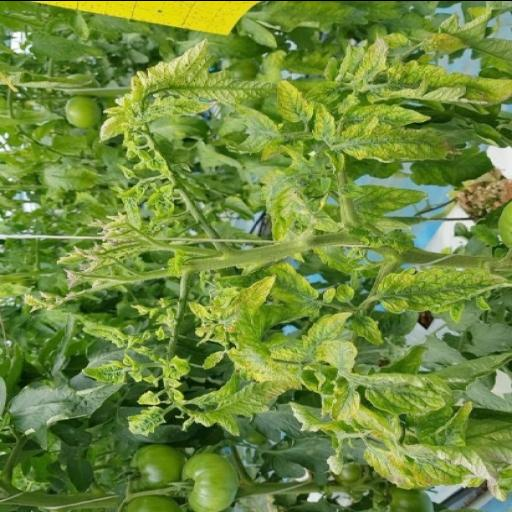Yellow Leaf Curl Virus: (363, 436, 507, 506), (134, 38, 274, 104), (368, 262, 512, 316), (371, 56, 512, 107), (332, 116, 464, 166), (194, 378, 298, 438), (360, 370, 466, 414), (224, 272, 292, 316), (296, 304, 350, 358), (349, 29, 393, 95), (347, 182, 431, 216), (277, 78, 313, 126), (318, 335, 360, 375), (327, 391, 368, 423), (82, 358, 130, 384)
